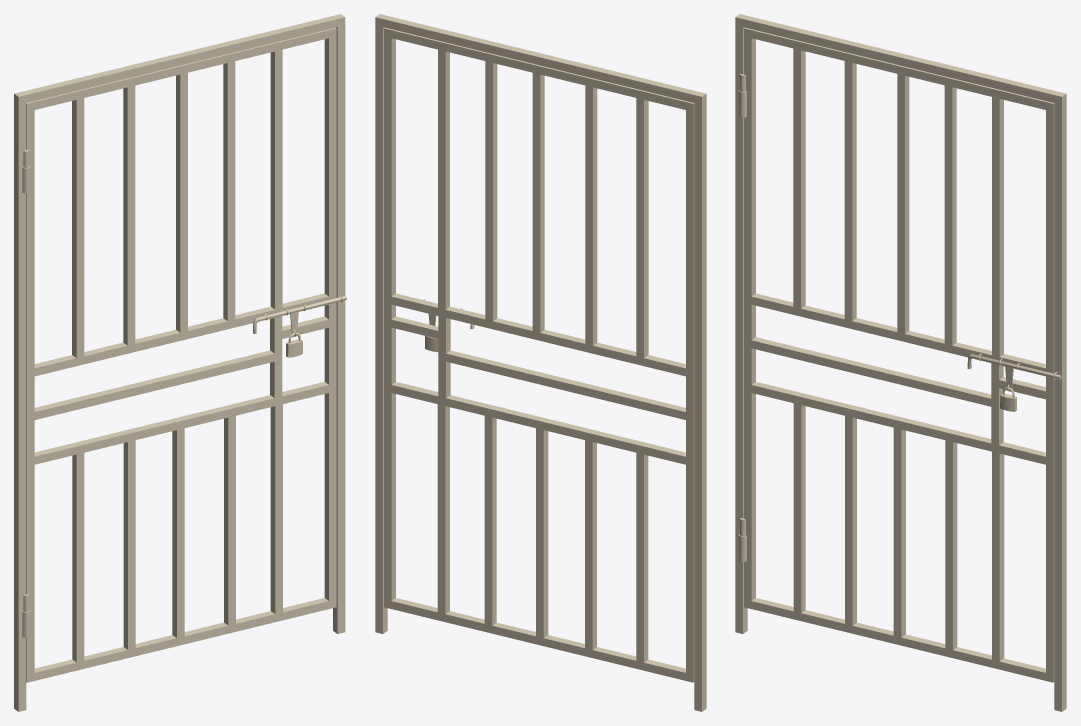
The model's file is Door_Fence_A_Snaps004.FBX.
3 views of the same model, side by side, from view 1: azimuth 30°, elevation 25°; view 2: azimuth 150°, elevation 25°; view 3: azimuth 330°, elevation 25° (orthographic).
Parts seen in each view (by area): view 1: Geometry_Door_Fence_A_LOD00; view 2: Geometry_Door_Fence_A_LOD00; view 3: Geometry_Door_Fence_A_LOD00.
Boxes of the visible parts, x1,y1,x2,y2 form: Geometry_Door_Fence_A_LOD00: (14, 14, 346, 711); Geometry_Door_Fence_A_LOD00: (375, 14, 706, 711); Geometry_Door_Fence_A_LOD00: (735, 14, 1066, 711).
Size of what is drawn, in the model's own units: 133 by 240 by 5.49.
